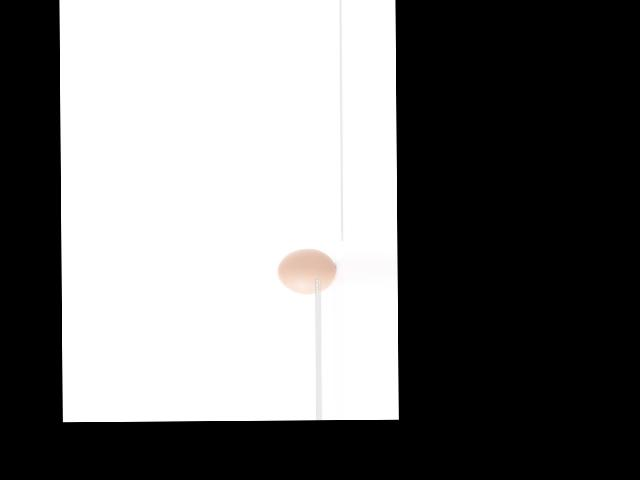egg: (277, 248, 335, 295)
